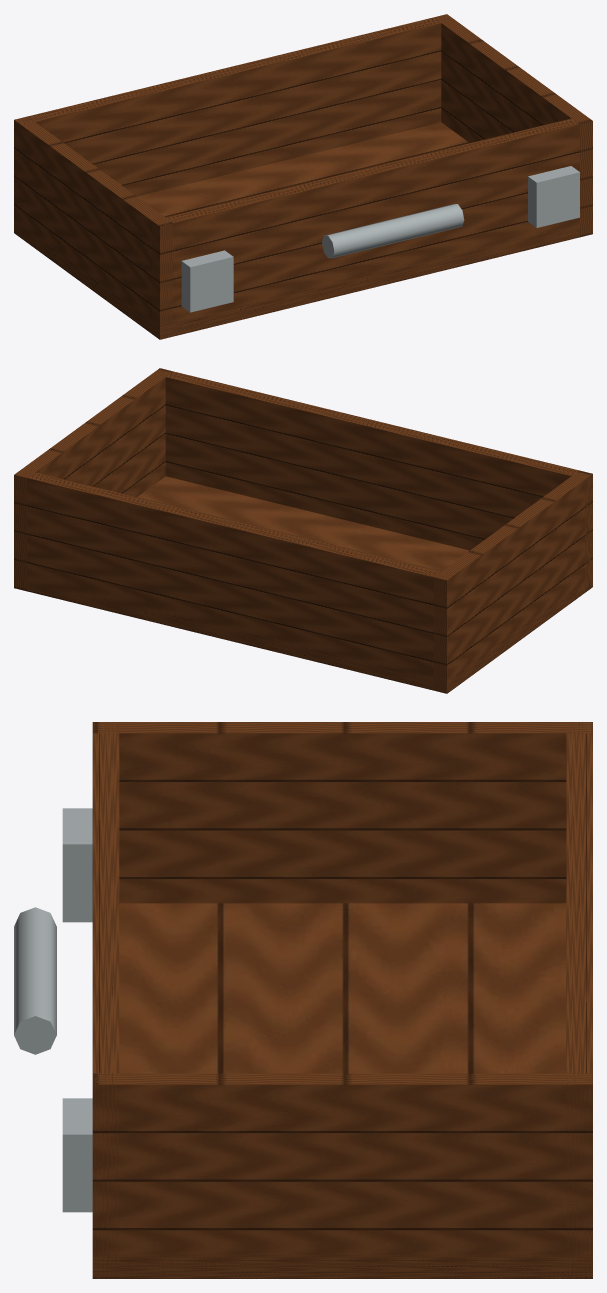
Rendered from suburban-outbreak-interiors-sideboard-removable-drawer-36888ddd__19964.glb.
3 renders of one model, top to bottom at view 1: azimuth 30°, elevation 25°; view 2: azimuth 150°, elevation 25°; view 3: azimuth 270°, elevation 25°, orthographic. The views are drawn at different scales.
Visible parts, largest first — view 1: sideboard-removable-drawer; view 2: sideboard-removable-drawer; view 3: sideboard-removable-drawer.
Part boxes in pixels (box(x1,y1,x2,y2)): sideboard-removable-drawer: box(14, 14, 592, 339); sideboard-removable-drawer: box(14, 368, 592, 693); sideboard-removable-drawer: box(14, 722, 592, 1278).
Bounding box in the file's own units: 0.6 × 0.15 × 0.405.
Materials: 2 (1 with a texture image).
